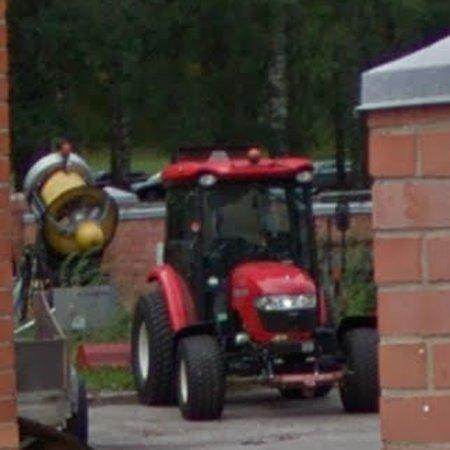tractors: (132, 147, 379, 420)
